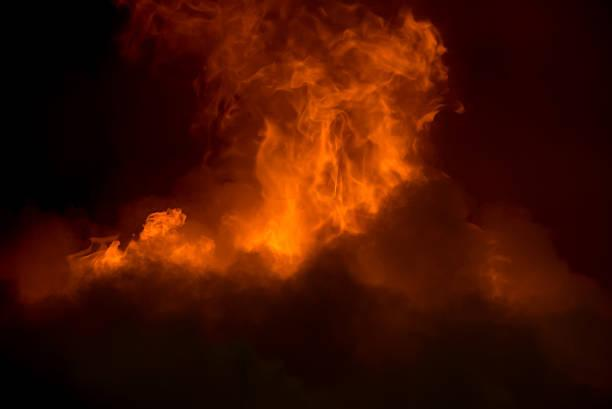Fire: (241, 95, 379, 264), (87, 209, 213, 281)
